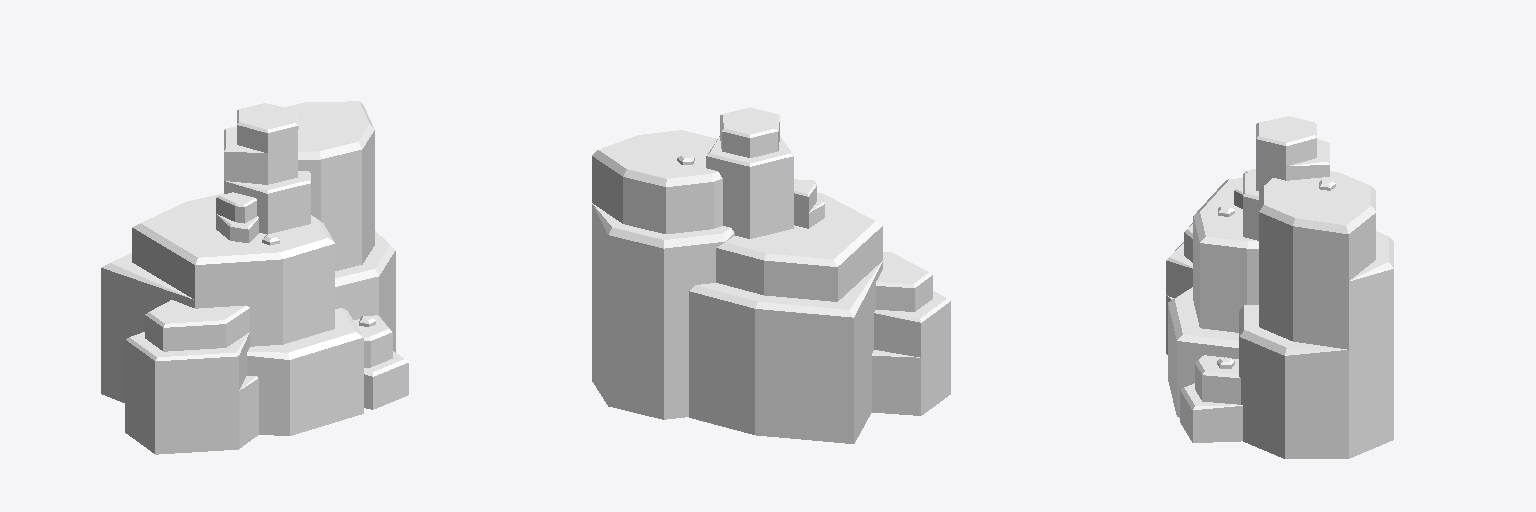
File: Rock_1_M_Color1.obj
3 renders of one model, left to right at view 1: azimuth 30°, elevation 25°; view 2: azimuth 150°, elevation 25°; view 3: azimuth 270°, elevation 25°, orthographic.
Parts seen in each view (by area): view 1: Rock_1_M_Color1; view 2: Rock_1_M_Color1; view 3: Rock_1_M_Color1.
Boxes of the visible parts, x1,y1,x2,y2 form: Rock_1_M_Color1: [101, 101, 408, 454]; Rock_1_M_Color1: [592, 107, 950, 443]; Rock_1_M_Color1: [1166, 116, 1393, 458].
Size of the model in its own units: 3.91 by 3.52 by 2.71.